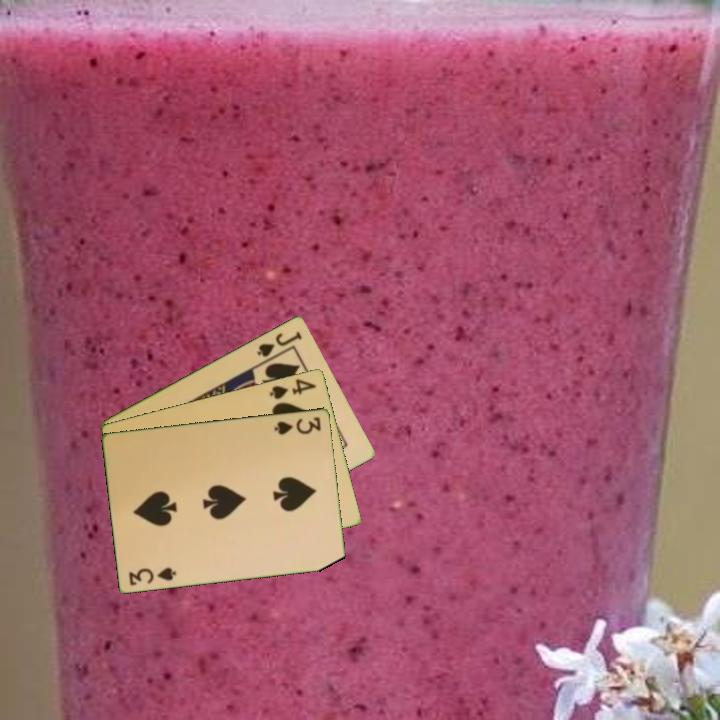3s: (126, 563, 179, 588), (271, 413, 324, 437)
4s: (266, 375, 319, 402)
Js: (253, 327, 305, 360)
